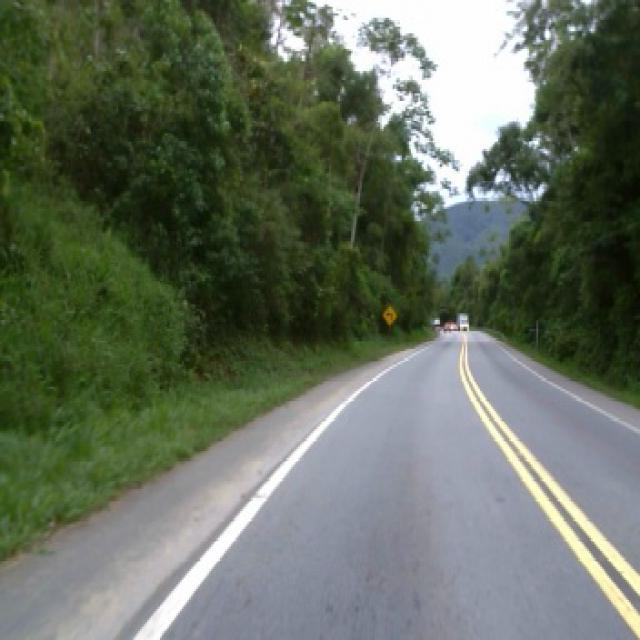Poth-hole: (254, 488, 270, 496)
